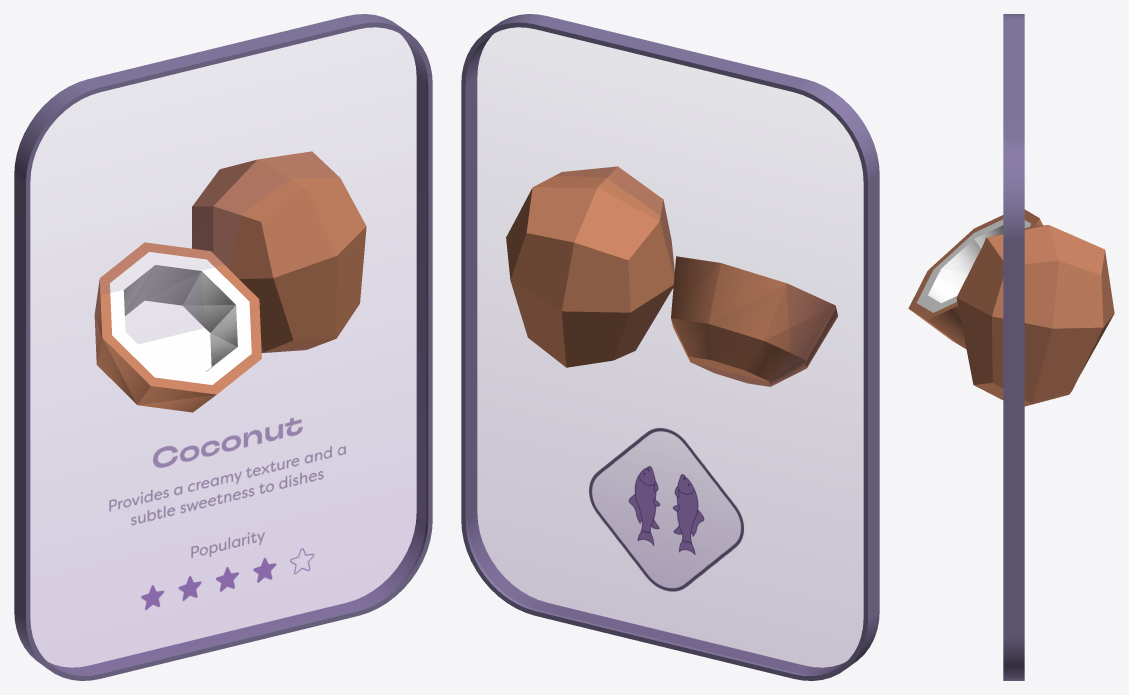
File: coconut.glb
3 views of the same model, side by side, from view 1: azimuth 30°, elevation 25°; view 2: azimuth 150°, elevation 25°; view 3: azimuth 270°, elevation 25° (orthographic). The views are drawn at different scales.
Parts seen in each view (by area): view 1: Bhai_Card.tex.027, Bhai_Card.out.027; view 2: Bhai_Card.tex.027, Bhai_Card.out.027; view 3: Bhai_Card.tex.027, Bhai_Card.out.027.
Boxes of the visible parts, x1,y1,x2,y2 form: Bhai_Card.tex.027: (30,151,425,674); Bhai_Card.out.027: (14,14,432,680); Bhai_Card.tex.027: (468,158,863,674); Bhai_Card.out.027: (461,14,879,680); Bhai_Card.tex.027: (908,209,1114,406); Bhai_Card.out.027: (1003,14,1024,680).
Size of the model in its own units: 1.81 by 2.51 by 0.8725.
6 materials, 2 textured.
